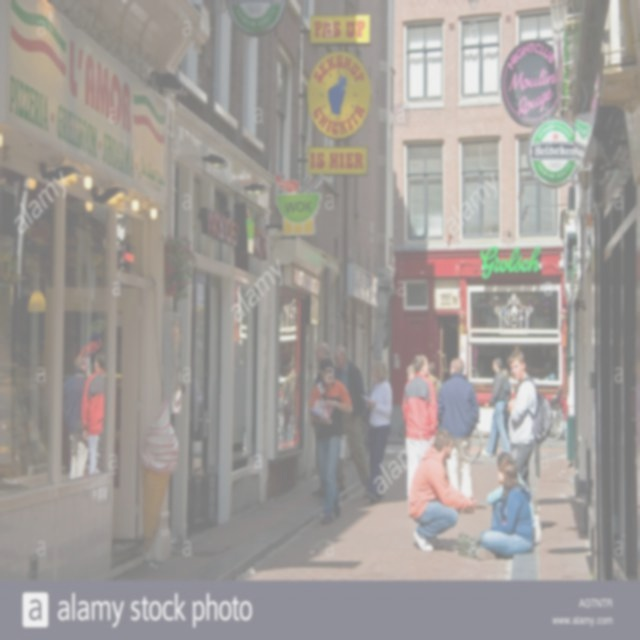pessoa: (408, 427, 480, 553), (306, 356, 354, 527), (506, 350, 554, 500), (474, 458, 535, 562), (332, 344, 372, 502), (400, 354, 438, 518), (436, 356, 479, 499), (62, 350, 106, 478), (360, 358, 392, 504), (312, 340, 338, 498), (486, 451, 536, 528), (479, 357, 511, 457), (278, 358, 298, 449), (426, 362, 442, 396), (540, 361, 556, 382), (500, 368, 510, 390), (406, 364, 417, 380)
